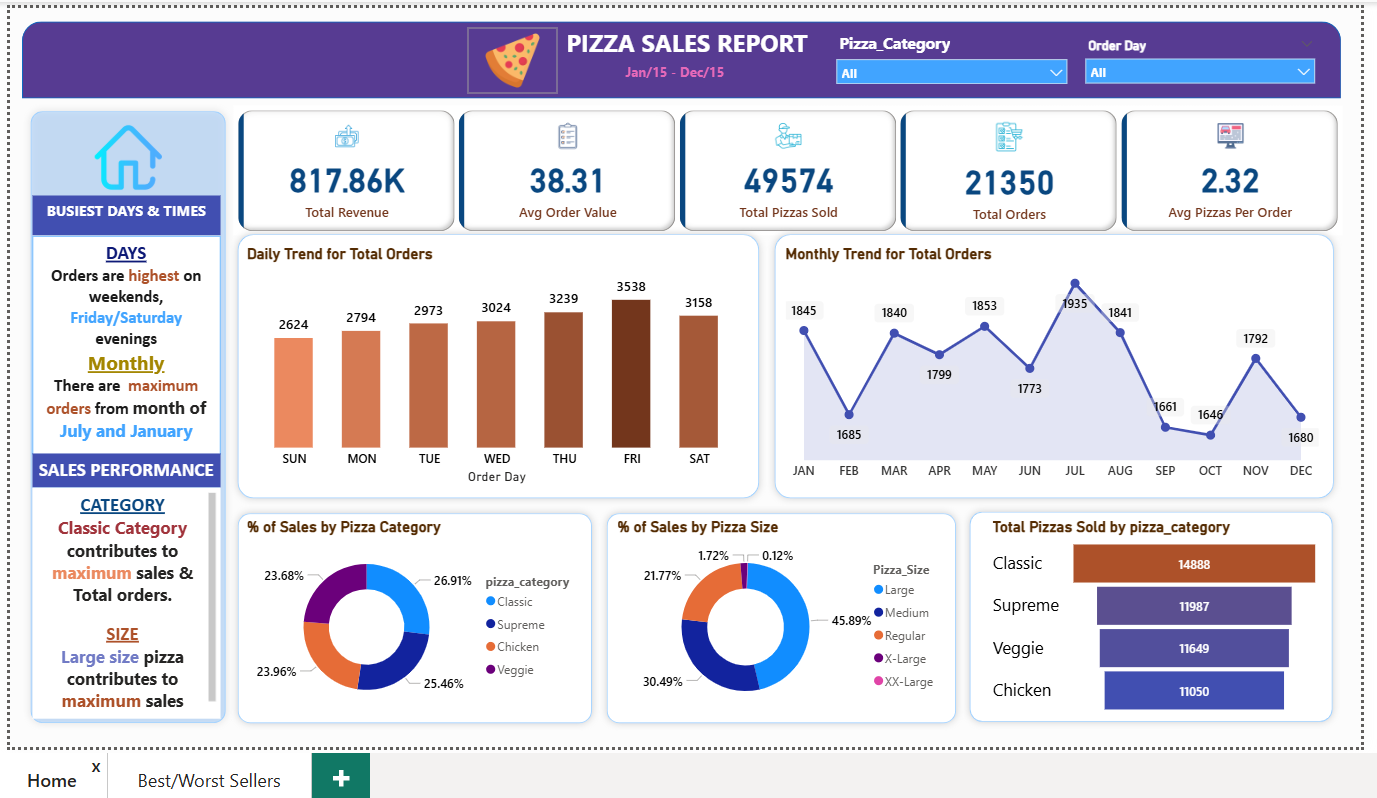

Layout of this report page (visuals, bound fields, positions):
{"tool":"powerbi","page":{"name":"Home","canvas":[1500,820],"ordinal":0},"visuals":[{"type":"cardVisual","fields":{"Data":["pizza_sales.Total Revenue","pizza_sales.Avg Order Value","pizza_sales.Total Pizzas Sold","pizza_sales.Total Orders","pizza_sales.Avg Pizzas Per Order"]},"box":[247.5,108.5,1230.5,144.1],"z":0},{"type":"shape","box":[15.3,106.8,232.2,694.9],"z":1000},{"type":"shape","box":[12.7,14.5,1463.6,85.5],"z":2000},{"type":"textbox","box":[558.2,14.5,387.3,72.7],"z":3000},{"type":"textbox","box":[654.5,54.5,167.3,32.7],"z":4000},{"type":"image","box":[507.3,21.8,100,72.7],"z":5000},{"type":"shape","box":[245.5,243.6,594.5,309.1],"z":6000},{"type":"columnChart","title":"Daily Trend for Total Orders","fields":{"Category":["pizza_sales.Order Day"],"Y":["pizza_sales.Total Orders"]},"box":[257.6,262.7,564.4,269.5],"z":7000},{"type":"shape","box":[840,243.6,636.4,309.1],"z":8000},{"type":"areaChart","title":"Monthly Trend for Total Orders","fields":{"Y":["pizza_sales.Total Orders"],"Category":["pizza_sales.Order Month"]},"box":[855.9,262.7,601.7,269.5],"z":9000},{"type":"shape","box":[245.5,552.7,409.1,249.1],"z":10000},{"type":"shape","box":[654.5,552.7,403.6,249.1],"z":11000},{"type":"shape","box":[1057.6,550.8,418.6,249.2],"z":12000},{"type":"donutChart","title":"% of Sales by Pizza Category","fields":{"Category":["pizza_sales.pizza_category"],"Y":["pizza_sales.Total Revenue"]},"box":[258.2,565.5,383.6,221.8],"z":13000},{"type":"donutChart","title":"% of Sales by Pizza Size","fields":{"Y":["pizza_sales.Total Revenue"],"Category":["pizza_sales.pizza_size"]},"box":[669.1,565.5,374.5,221.8],"z":14000},{"type":"funnel","fields":{"Category":["pizza_sales.pizza_category"],"Y":["pizza_sales.Total Pizzas Sold"]},"box":[1085.5,565.5,372.7,221.8],"z":15000},{"type":"textbox","box":[25.4,208.5,208.5,44.1],"z":16000},{"type":"textbox","box":[25.4,252.5,208.5,242.4],"z":17000},{"type":"textbox","box":[25.4,494.9,208.5,37.3],"z":18000},{"type":"textbox","box":[25.4,532.2,208.5,255.9],"z":19000},{"type":"slicer","fields":{"Values":["pizza_sales.pizza_category"]},"box":[906.8,22,276.3,66.1],"z":20000},{"type":"slicer","fields":{"Values":["pizza_sales.Order Day"]},"box":[1183.1,28.8,274.6,66.1],"z":21000},{"type":"image","box":[42.5,123.7,175.4,84.9],"z":21001}]}

Visuals, with their boxes on the page's 1500x820 design canvas (x1, y1, x2, y2). These are canvas units, not pixel positions in the 1377x798 screenshot, which may show the page scaled, cropped or inside an application window:
cardVisual - pizza_sales.Total Revenue x pizza_sales.Avg Order Value: locate(248, 108, 1478, 253)
shape: locate(15, 107, 248, 802)
shape: locate(13, 14, 1476, 100)
textbox: locate(558, 14, 946, 87)
textbox: locate(654, 54, 822, 87)
image: locate(507, 22, 607, 94)
shape: locate(246, 244, 840, 553)
"Daily Trend for Total Orders" columnChart: locate(258, 263, 822, 532)
shape: locate(840, 244, 1476, 553)
"Monthly Trend for Total Orders" areaChart: locate(856, 263, 1458, 532)
shape: locate(246, 553, 655, 802)
shape: locate(654, 553, 1058, 802)
shape: locate(1058, 551, 1476, 800)
"% of Sales by Pizza Category" donutChart: locate(258, 566, 642, 787)
"% of Sales by Pizza Size" donutChart: locate(669, 566, 1044, 787)
funnel - pizza_sales.pizza_category x pizza_sales.Total Pizzas Sold: locate(1086, 566, 1458, 787)
textbox: locate(25, 208, 234, 253)
textbox: locate(25, 252, 234, 495)
textbox: locate(25, 495, 234, 532)
textbox: locate(25, 532, 234, 788)
slicer - pizza_sales.pizza_category: locate(907, 22, 1183, 88)
slicer - pizza_sales.Order Day: locate(1183, 29, 1458, 95)
image: locate(42, 124, 218, 209)
